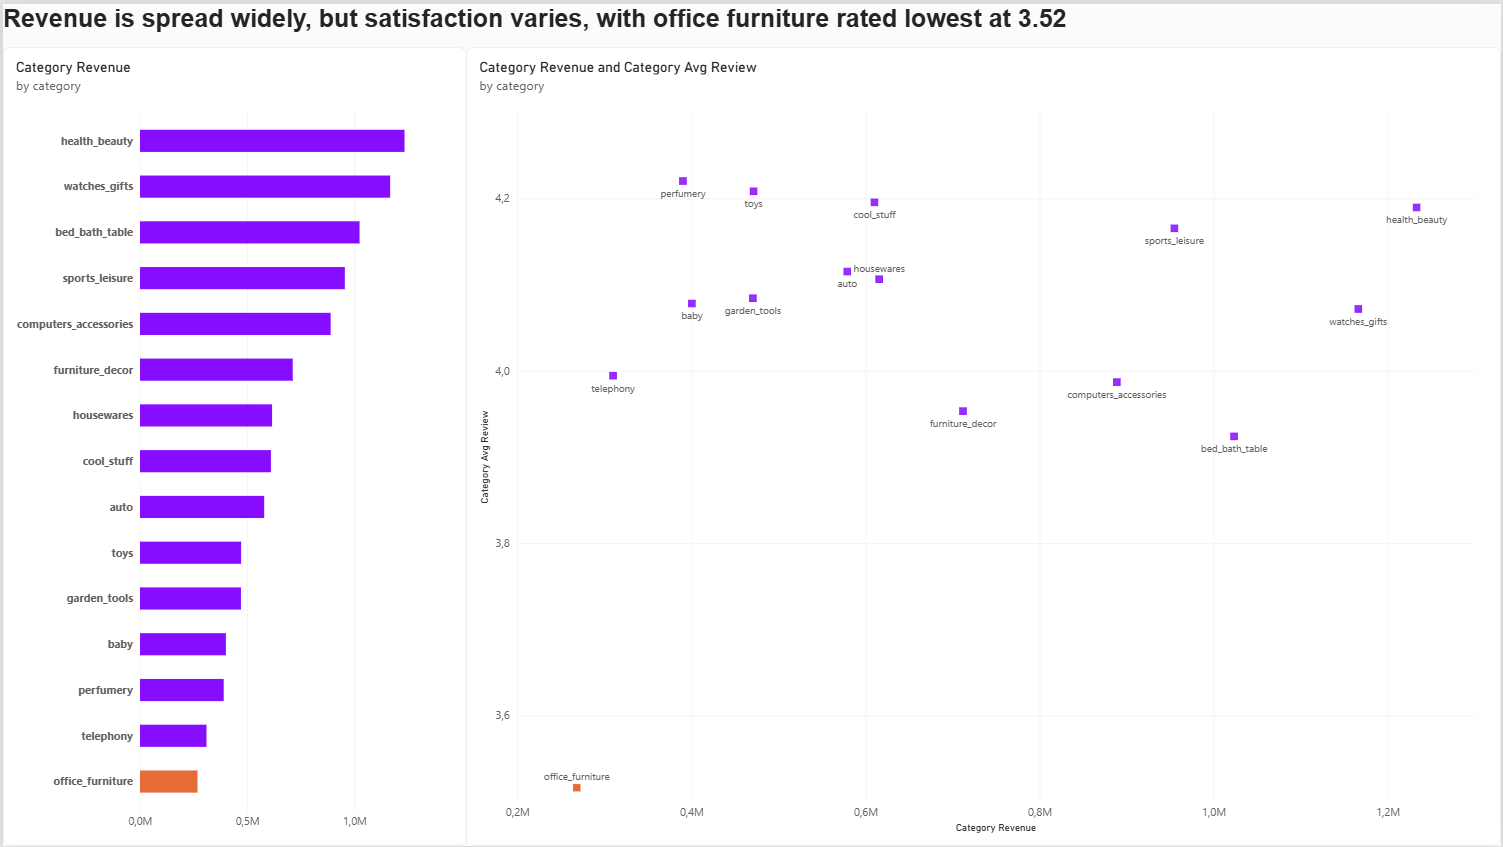

What the dashboard file says about the page in this screenshot:
{"tool":"powerbi","page":{"name":"Categories","canvas":[1920,1080],"ordinal":1},"visuals":[{"type":"clusteredBarChart","fields":{"Category":["vw_item_facts.category"],"Y":["vw_item_facts.Category Revenue"]},"box":[0,56,594,1024],"z":0},{"type":"scatterChart","fields":{"Category":["vw_item_facts.category"],"X":["vw_item_facts.Category Revenue"],"Y":["vw_item_facts.Category Avg Review"]},"box":[594,56,1326,1024],"z":1000},{"type":"textbox","box":[0,0,1366,56],"z":2000}]}

Visuals, with their boxes in screenshot pixels (x1, y1, x2, y2), scaled from the page's 1920x1080 canvas onto the 1503x847 screenshot:
clusteredBarChart - vw_item_facts.category x vw_item_facts.Category Revenue: left=0, top=44, right=465, bottom=846
scatterChart - vw_item_facts.category x vw_item_facts.Category Revenue: left=465, top=44, right=1502, bottom=846
textbox: left=0, top=0, right=1069, bottom=44
